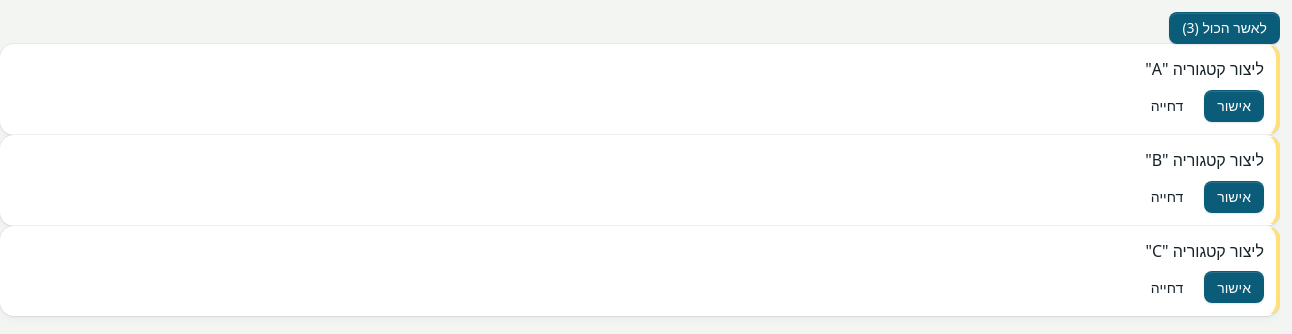
Scenario: ActionGroup › approves all cards with one request and one refresh
Click the button "לאשר הכול (3)".
click(1225, 28)  # box [1169,12,1280,44]
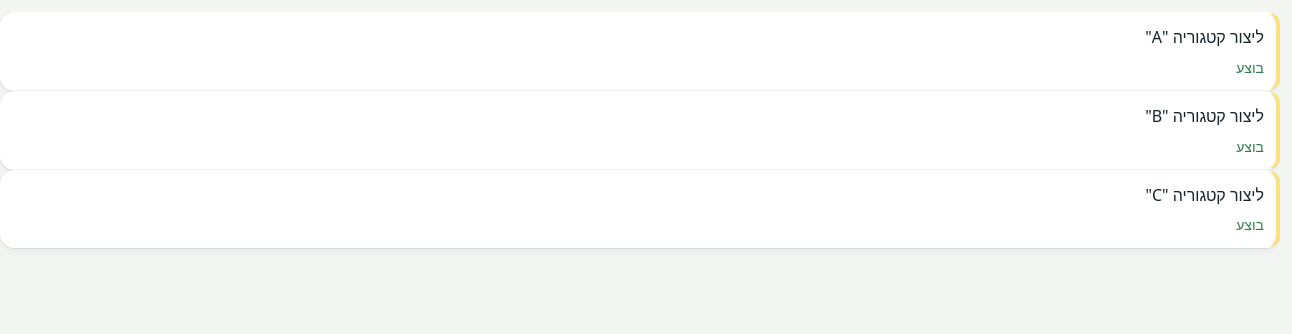
expect the text "בוצע" is shown 3 times: met, box [1236,58,1264,77]; [1236,137,1264,156]; [1236,215,1264,234]
expect the button "לאשר הכול (3)" is gone: met
